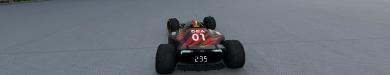Car: (154, 15, 245, 73)
